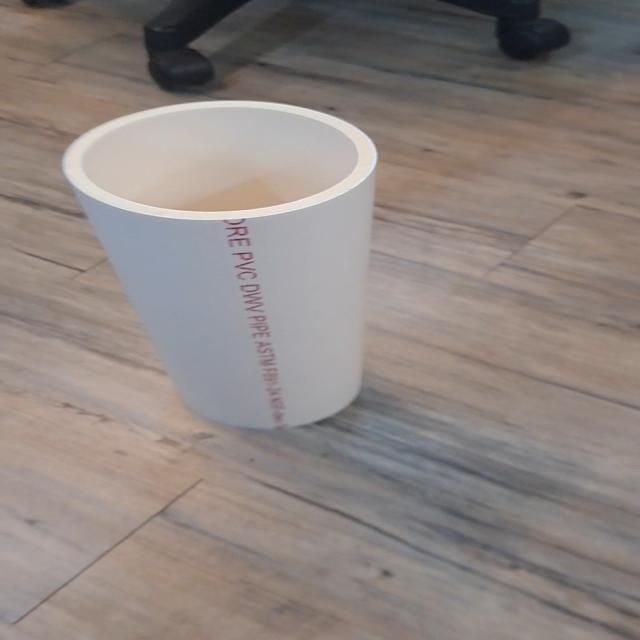CORAL: (60, 97, 407, 436)
